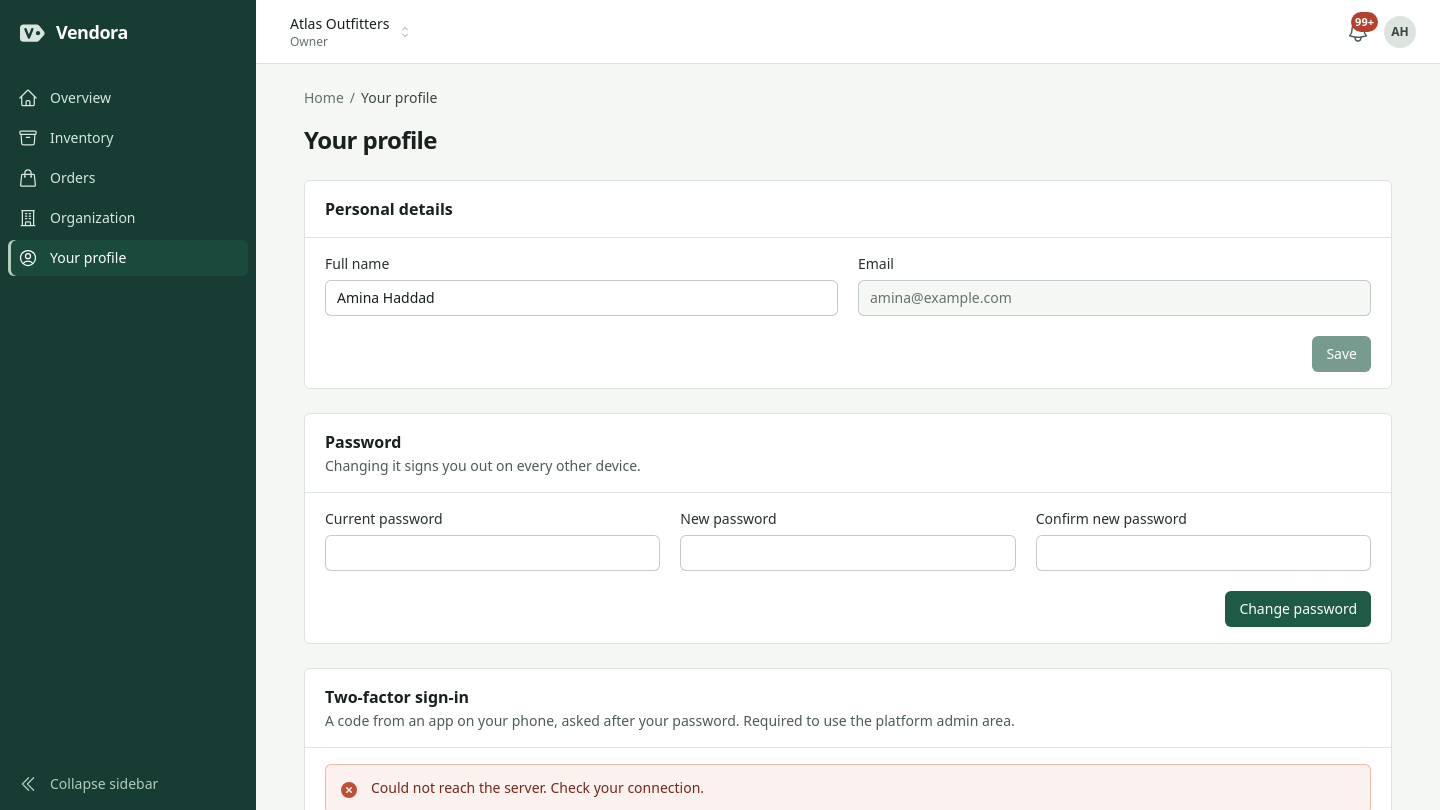
Test case: notification bell › says when there is nothing new and caps a large count
The width and height of the screenshot is (1440, 810).
Step 1. Click the button named "Notifications, 250 unread" → (1358, 32), box [1340,14,1376,50]
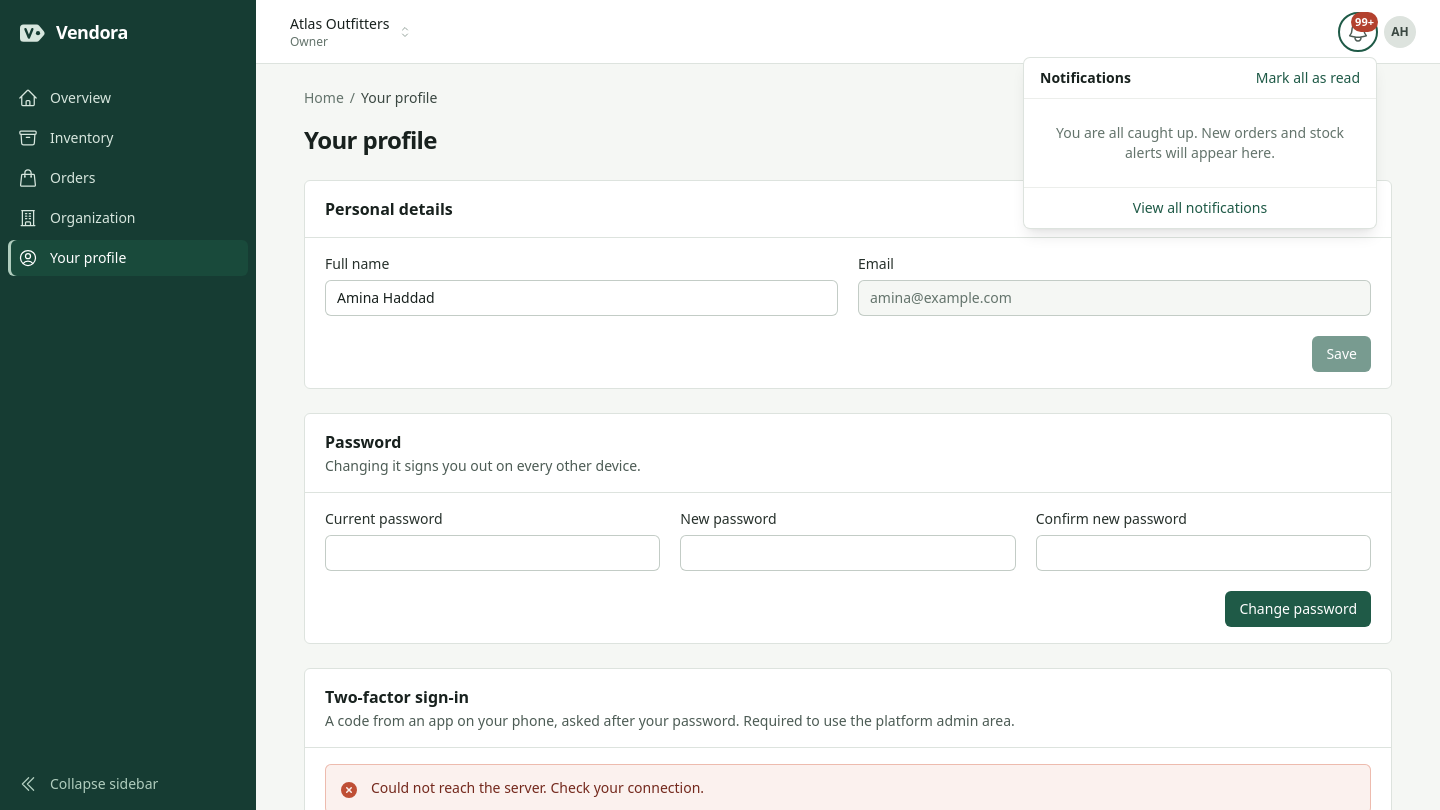
Expected: the text "You are all caught up" is shown, [1056,122,1344,162]
